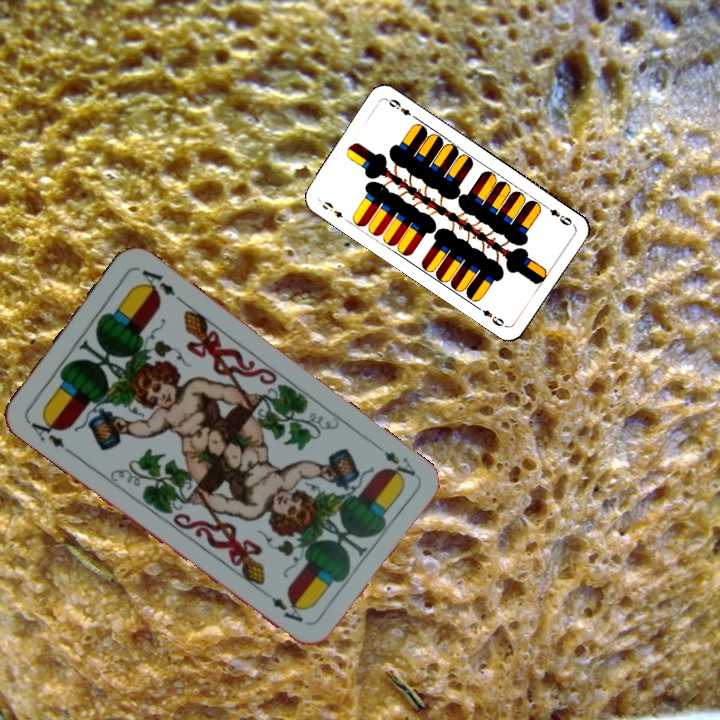E9: (540, 201, 575, 228), (318, 197, 346, 221)
EA: (22, 412, 74, 456), (368, 440, 419, 484)
